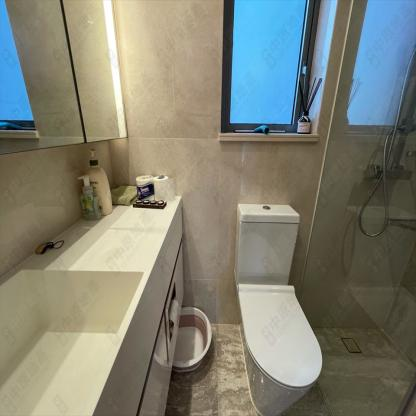Toilet: (234, 202, 321, 414)
Toilet Sink: (1, 271, 143, 415)
